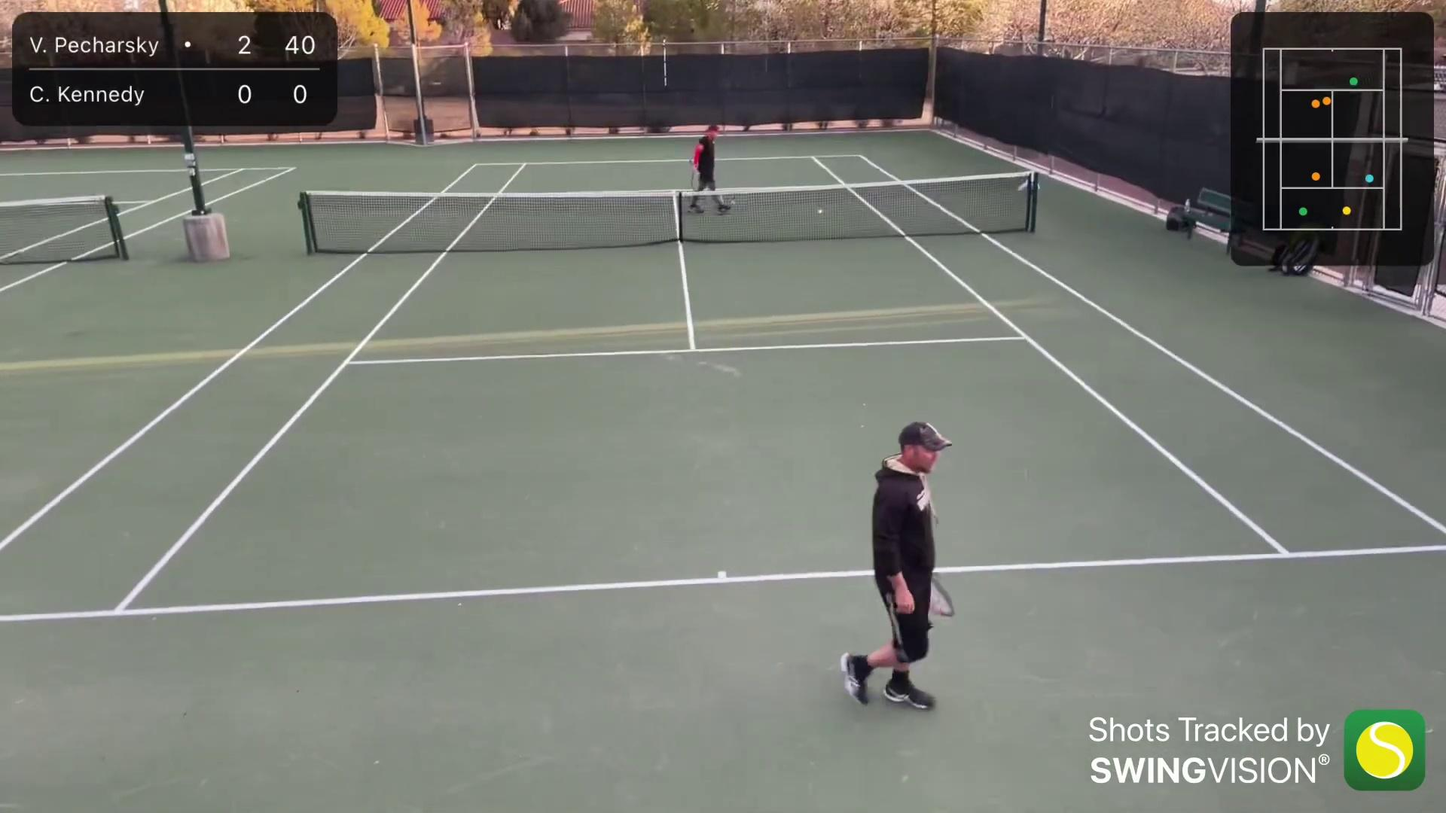ball: (813, 206, 826, 217)
